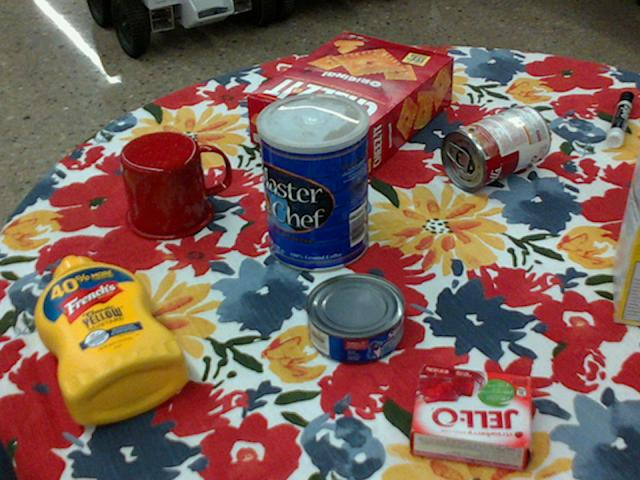cracker_box: (249, 33, 456, 178)
gelatin_box: (411, 365, 536, 472)
large_marker: (606, 91, 635, 146)
master_chef_can: (256, 91, 369, 272)
mug: (120, 130, 229, 240)
mustard_bottle: (35, 255, 188, 423)
sugar_box: (611, 151, 639, 326)
tomato_soup_can: (442, 103, 551, 190)
tuna_fish_can: (305, 274, 405, 365)
